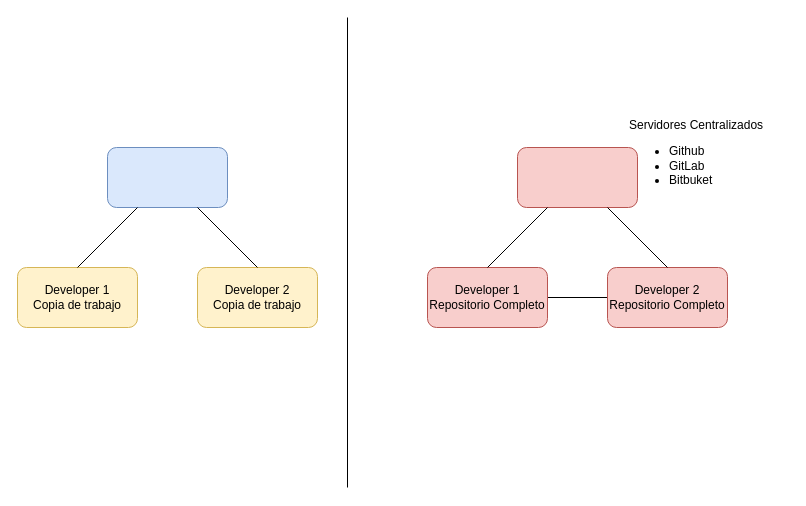
The diagram is 806 pixels wide and 506 high, and some of its shapes have lost their labels. Each missing label, with the centre of its shape:
Repositorio Central: [167,177]
Repositorio Completo: [577,177]
